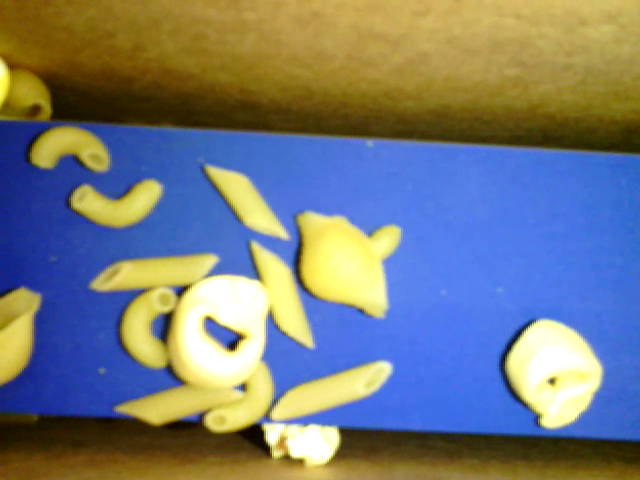elbow: (117, 283, 182, 369), (205, 358, 274, 435), (70, 176, 162, 229), (27, 125, 109, 171), (360, 227, 401, 264)
penne: (268, 358, 395, 422), (248, 239, 316, 351), (201, 165, 292, 239), (111, 381, 245, 429), (88, 252, 222, 292)
shell: (293, 208, 393, 320), (1, 281, 42, 390), (1, 69, 55, 127)
tortellini: (500, 310, 602, 432), (168, 273, 273, 389)
